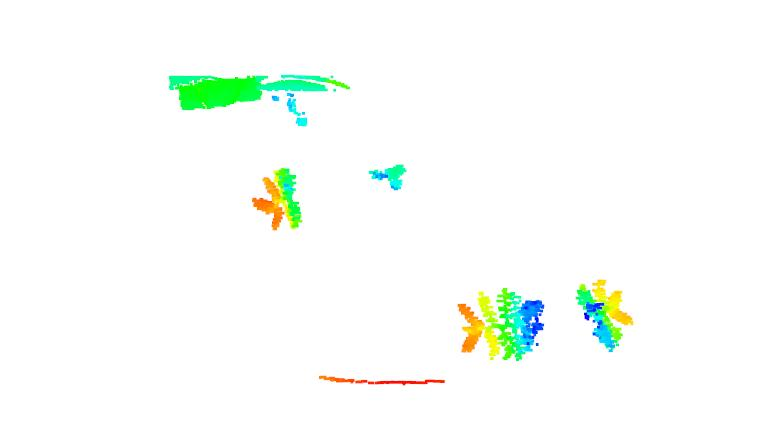chickpea: (456, 287, 551, 364), (576, 277, 634, 353), (250, 167, 306, 233), (366, 162, 410, 191)
